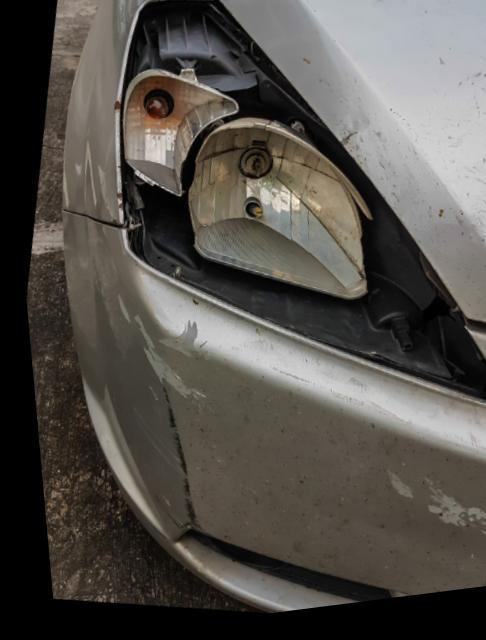lamp broken: (115, 5, 486, 415)
scratch: (109, 296, 207, 532), (373, 478, 482, 551)
